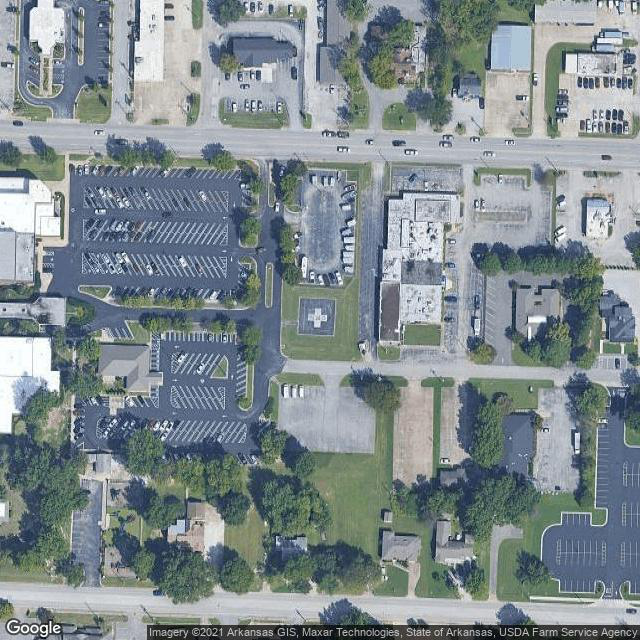Helipad: (300, 301, 334, 333)
